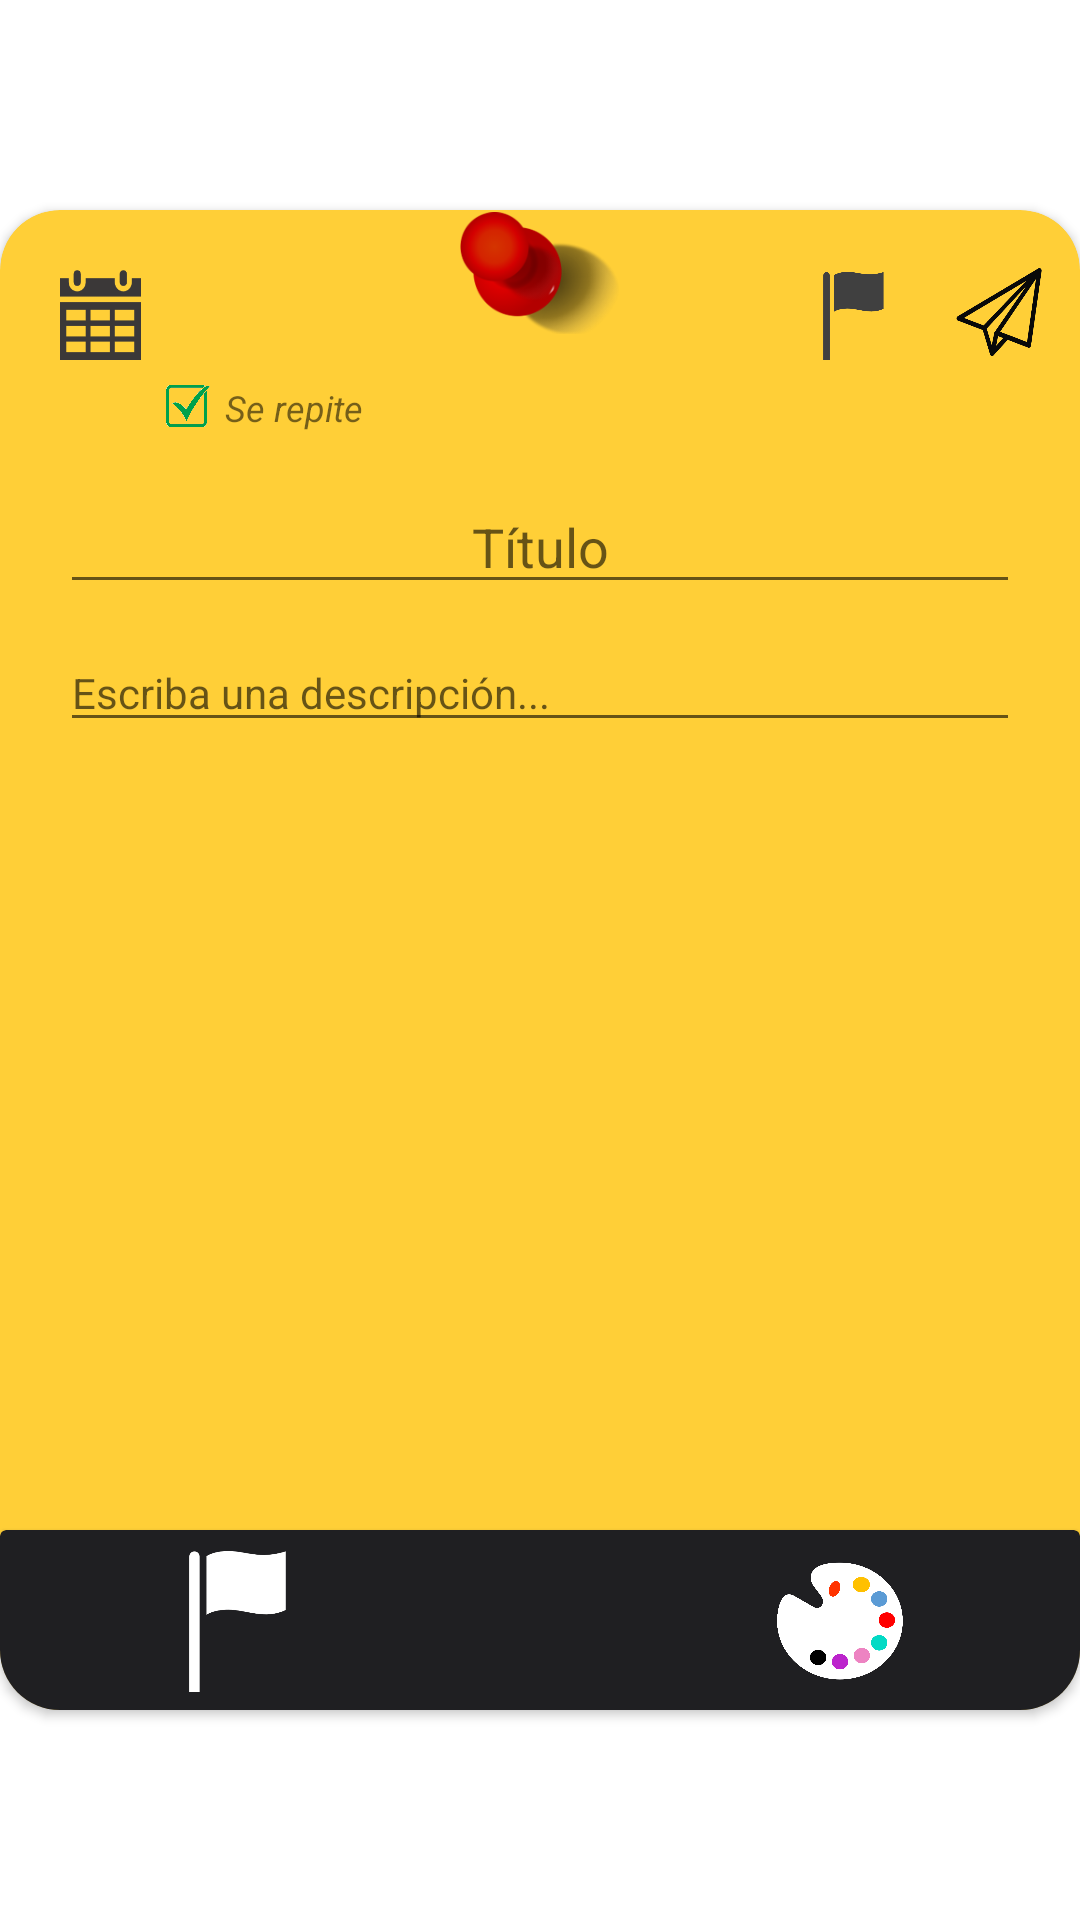

Icons on this 1080w x 1920h Android screen, each with the point to tap as point (x, y):
check: point (188, 406)
enviar: point (999, 312)
fecha: point (100, 315)
pin: point (536, 272)
